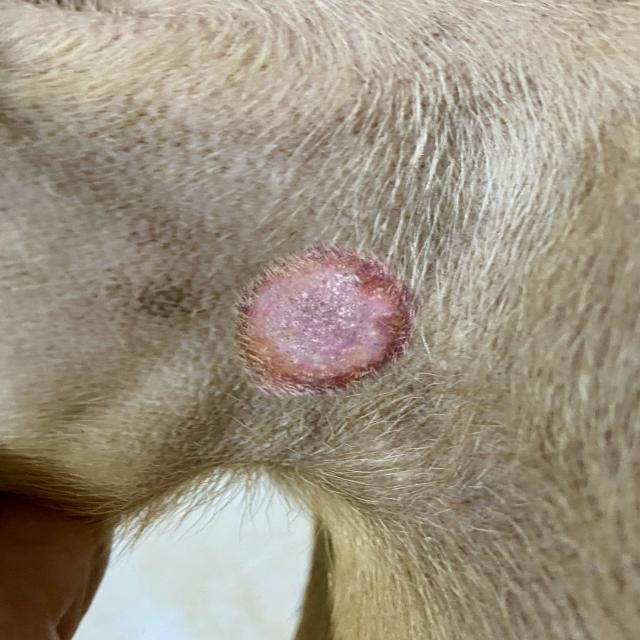ringworm: (205, 237, 444, 414)
